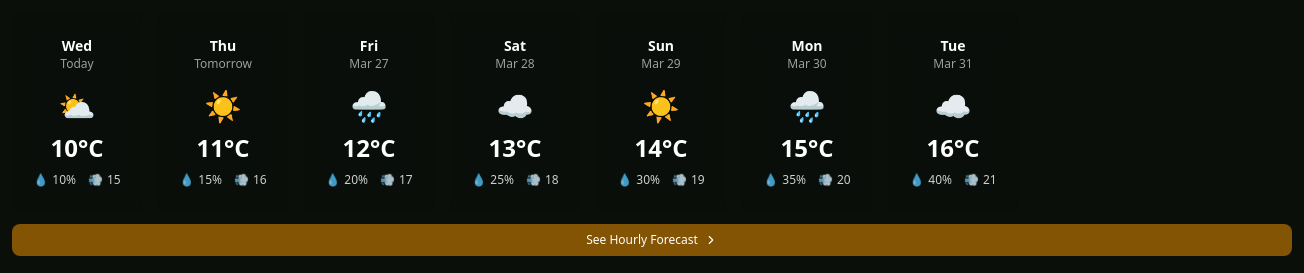
Test case: WeatherForecast › expand/collapse functionality › clicking expand button switches to hourly view
Click the button with test id "forecast-expand-button" at (652, 240), box x1=12 y1=224 x2=1292 y2=256
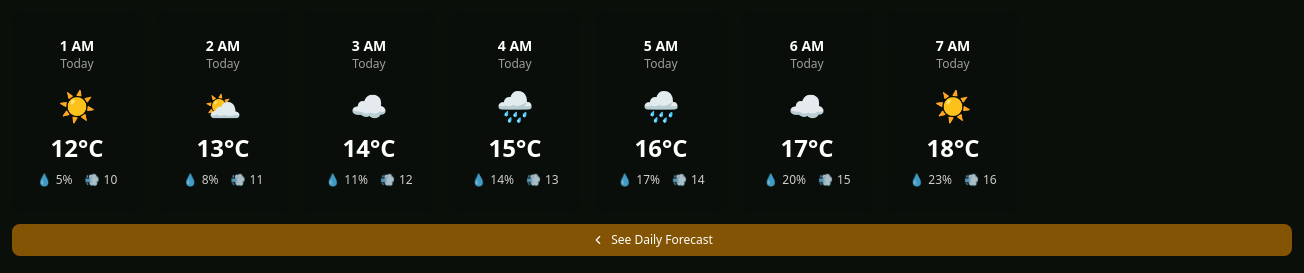
expect the number of buttons with test id "weather-hour-card" is 7: met
expect no buttons with test id "weather-day-card" are shown: met
